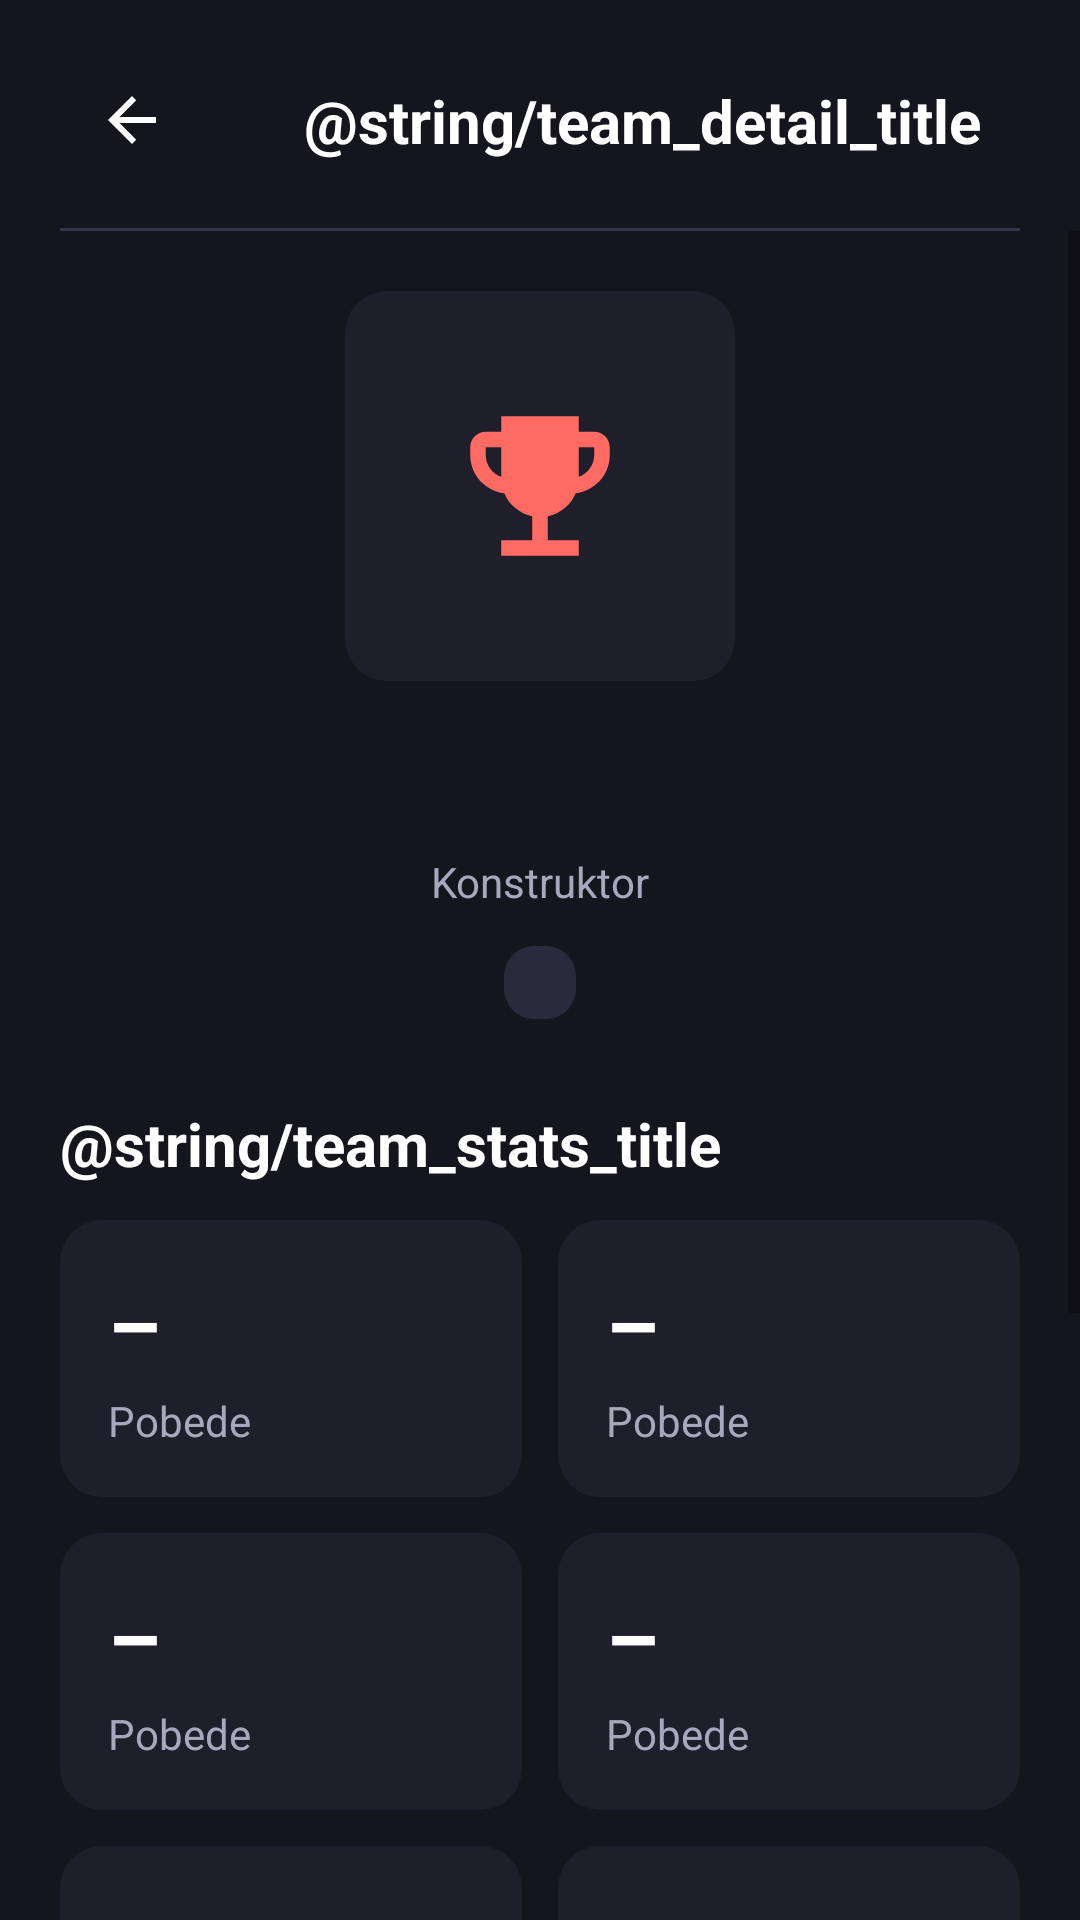

Screen size 1080*1920. Icon name, then its box in pixels as (x1, y1, x2, y2):
Nazad: (108, 96, 156, 144)
trophy: (470, 416, 610, 556)
